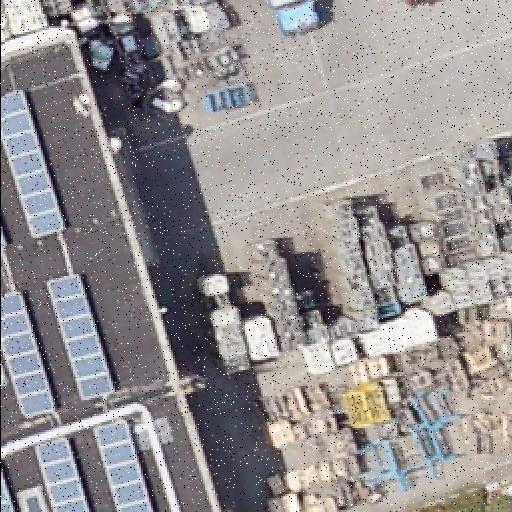solar-panel: (1, 88, 63, 240), (45, 272, 115, 404), (0, 291, 58, 421), (90, 420, 154, 512), (31, 436, 89, 512), (1, 465, 15, 511), (0, 226, 8, 250)
